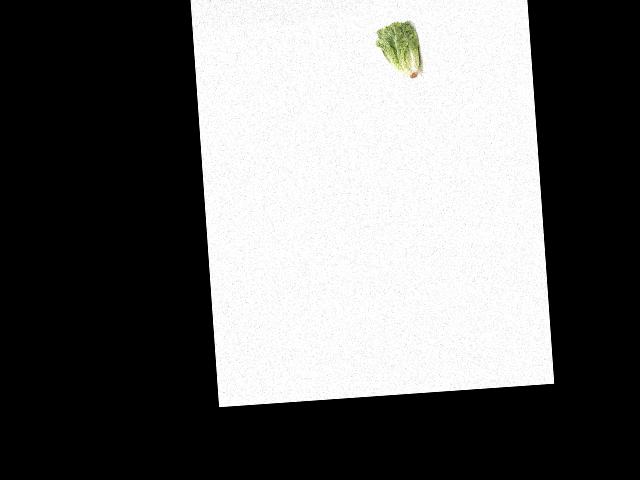lettuce: (374, 20, 423, 83)
